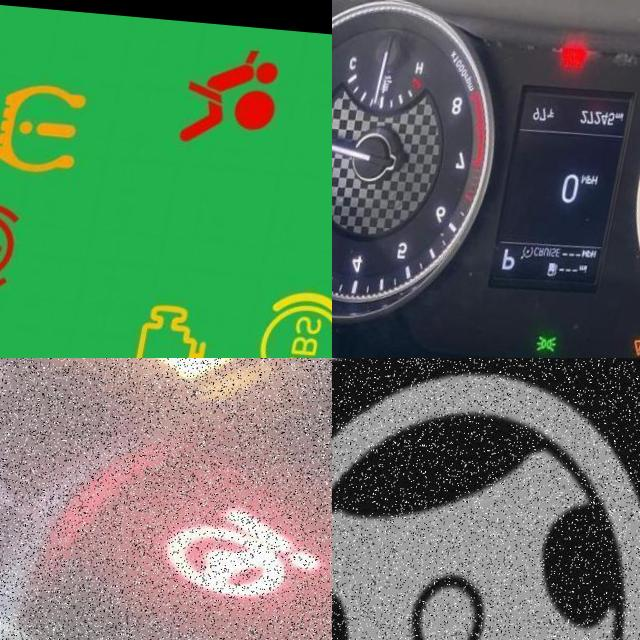Electronic Power Steering: (332, 358, 640, 640), (140, 461, 332, 628)
